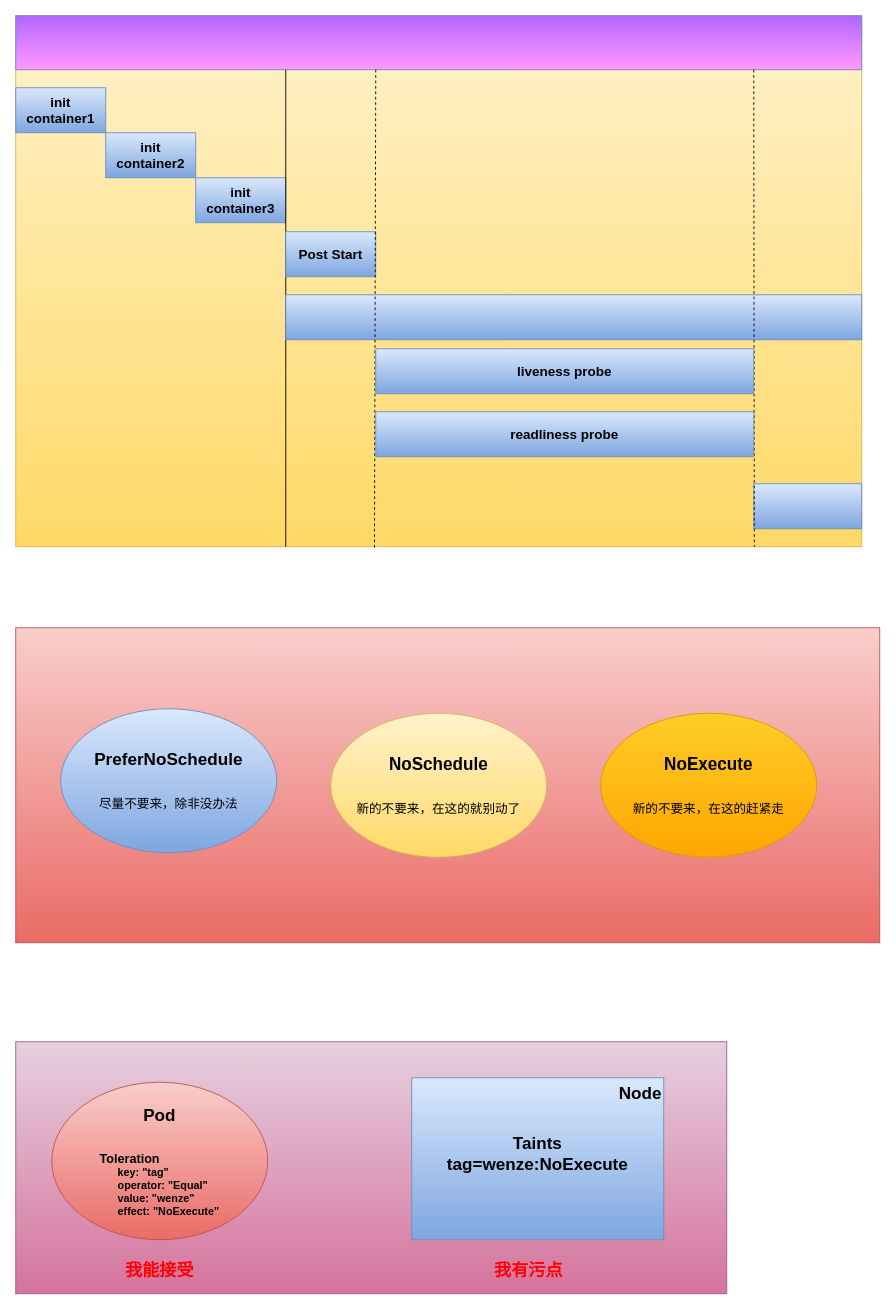
Some shapes in this 896 by 1310 pixel diagram are drawn without their labels. Here are the shapes that lost their labels. From the top down, the centre of each, then its label:
At point 438,42: "Pod 生命周期".
At point 573,317: "main container".
At point 807,506: "Pre Stop".
